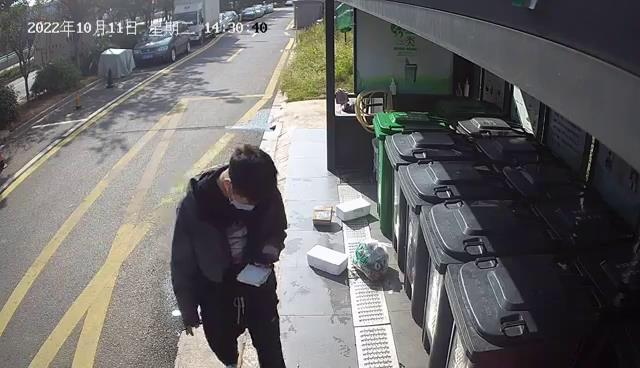person: (169, 142, 288, 368)
suliaozhipin: (352, 237, 394, 283)
zhizhipin: (306, 243, 348, 278), (335, 197, 371, 221), (312, 203, 333, 226)
